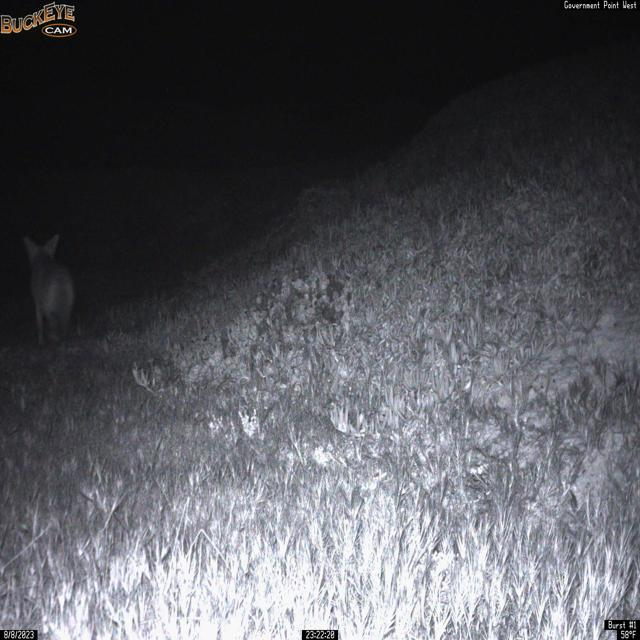coyote: (22, 233, 76, 349)
